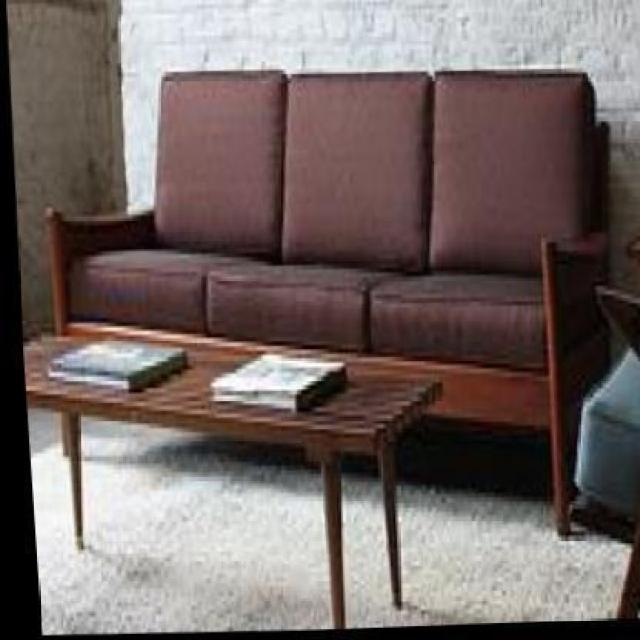tables: (22, 329, 443, 628)
